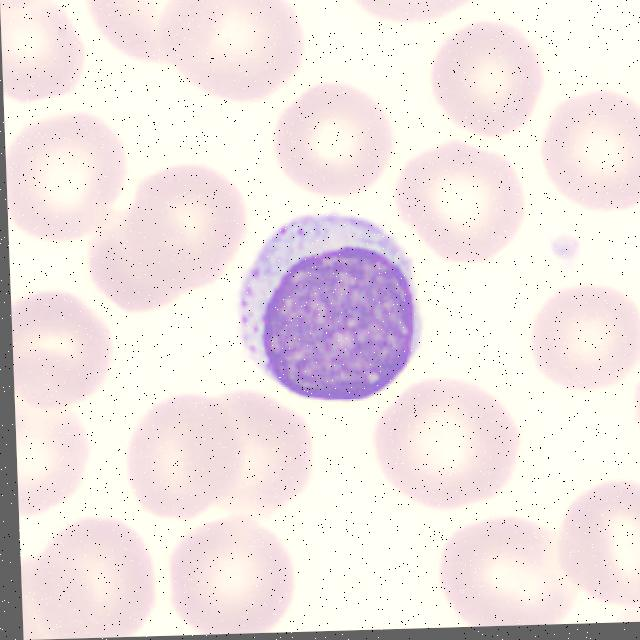lymphocyte: (229, 211, 425, 410)
rbc: (375, 386, 528, 511), (432, 517, 576, 628), (129, 160, 244, 290), (127, 399, 246, 518), (178, 517, 298, 634), (394, 149, 520, 259), (68, 202, 178, 326), (5, 121, 127, 232), (206, 394, 315, 517), (170, 0, 307, 95), (429, 20, 541, 135), (542, 90, 640, 217), (11, 291, 108, 418), (279, 89, 389, 197), (52, 525, 155, 639), (550, 484, 640, 608), (530, 291, 640, 388), (98, 0, 234, 72), (0, 3, 88, 101), (15, 408, 87, 521), (20, 548, 100, 640), (343, 0, 488, 26), (623, 366, 640, 457), (487, 5, 491, 6)
